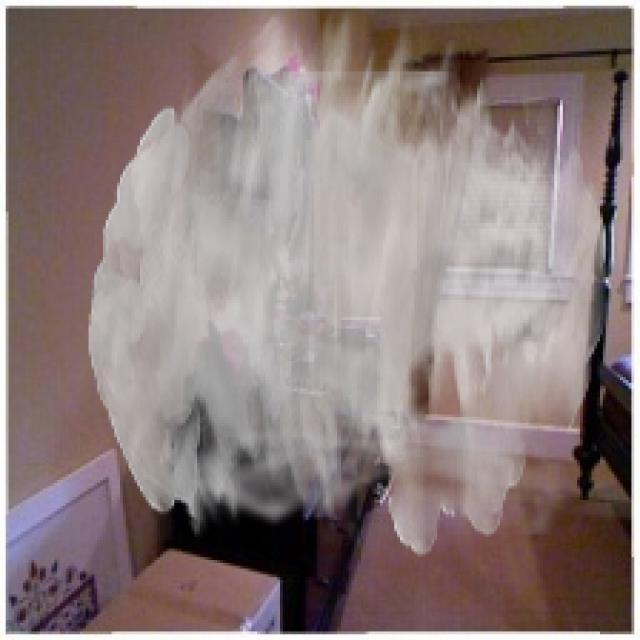Smoke: (89, 5, 608, 558)
